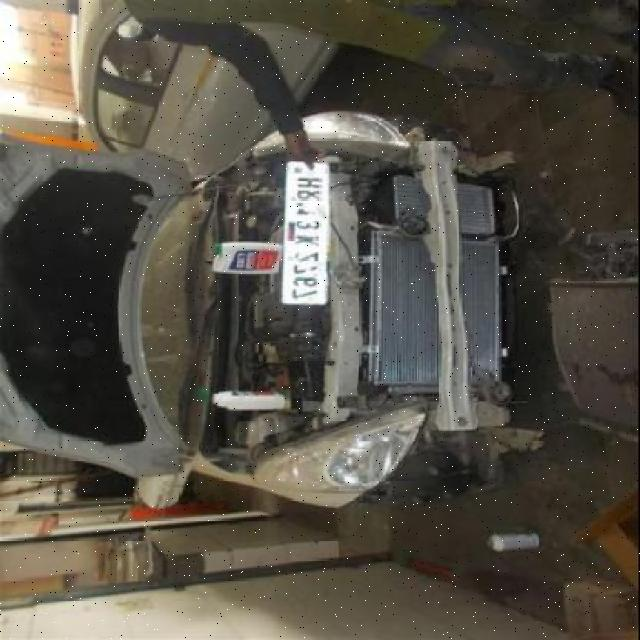damage: (264, 103, 532, 530)
